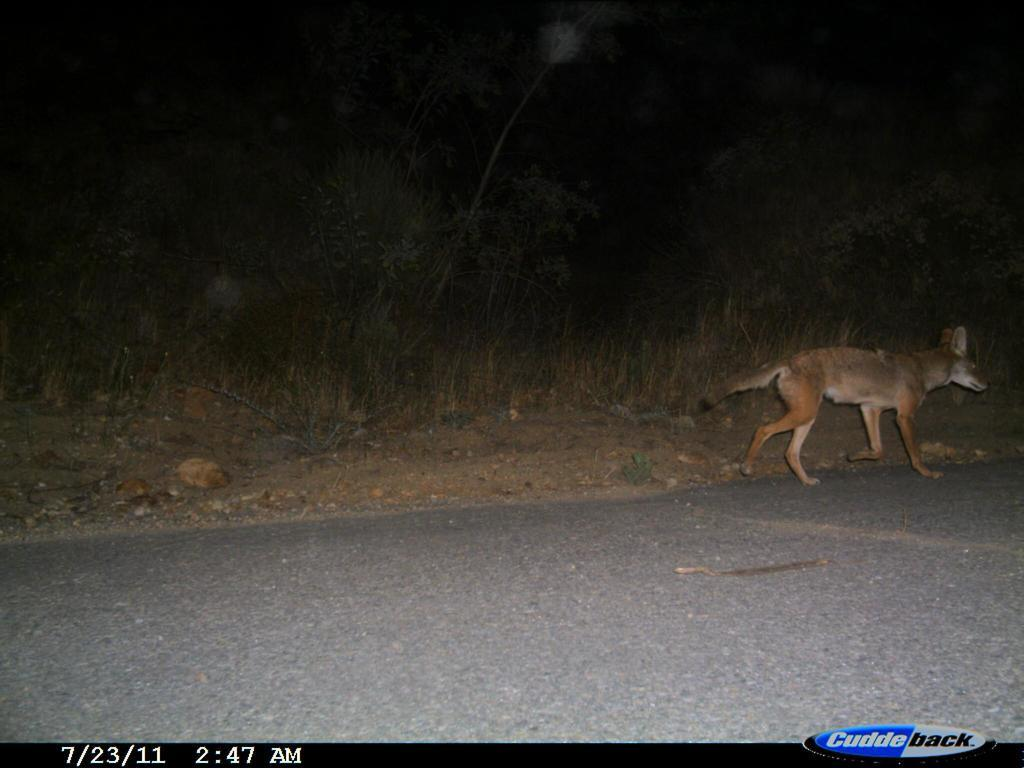coyote: (696, 317, 1010, 496)
